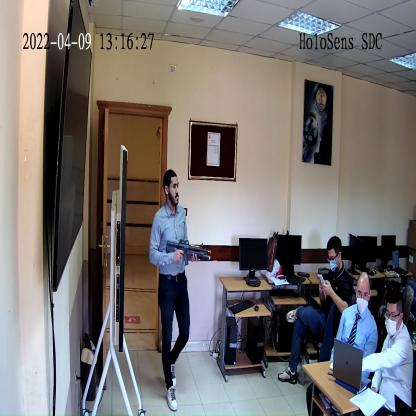handgun: (165, 240, 209, 267)
